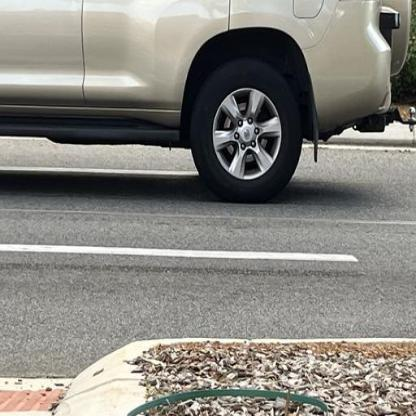Tire: (190, 56, 303, 203)
